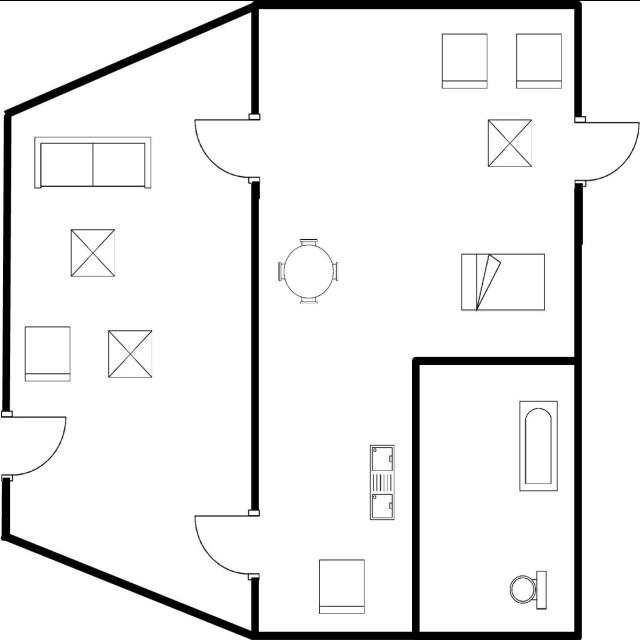bed: (454, 248, 550, 316)
coffee_table: (102, 326, 156, 384), (66, 223, 118, 281), (483, 114, 535, 171)
large_sink: (505, 565, 552, 613)
large_sofa: (29, 132, 157, 192)
round_table: (273, 235, 341, 309)
small_sofa: (20, 320, 76, 390), (314, 552, 368, 620), (436, 30, 492, 94), (512, 29, 567, 93)
tub: (512, 396, 562, 498)
twin_sink: (364, 440, 398, 528)
